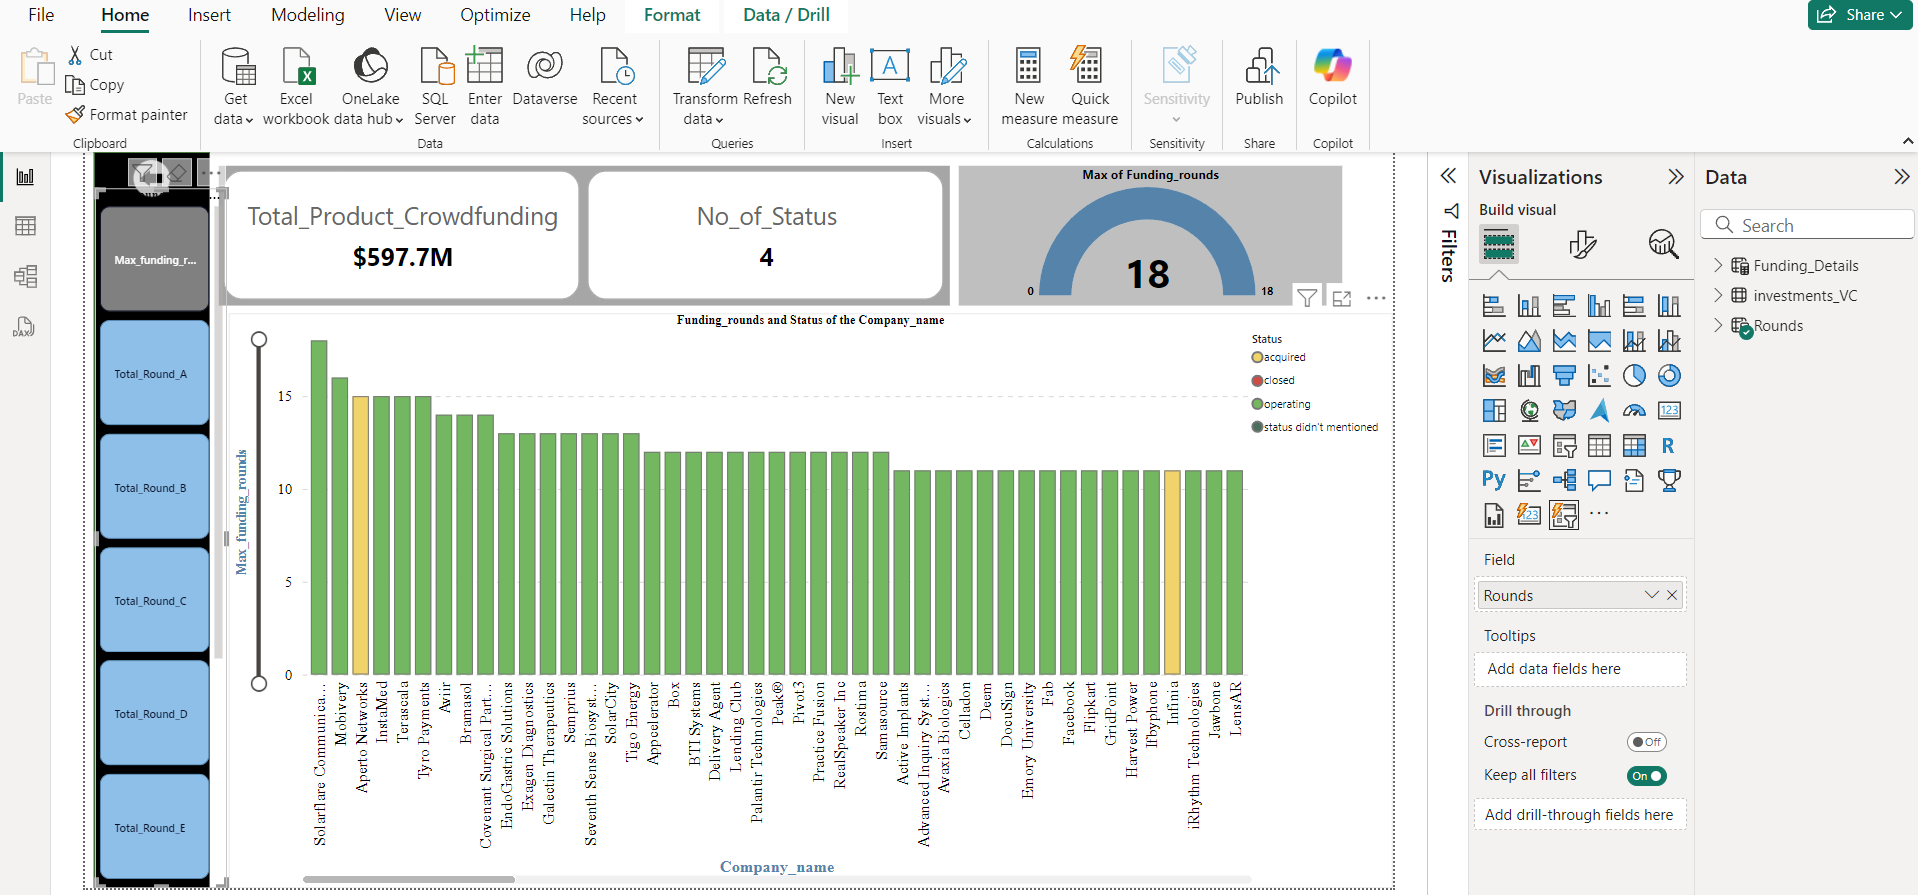

This screenshot's page, from the dashboard's own definition file:
{"tool":"powerbi","page":{"name":"Page 2","canvas":[1280,720],"ordinal":1},"visuals":[{"type":"shape","box":[9.2,0,113.7,1080.4],"z":0},{"type":"cardVisual","fields":{"Data":["investments_VC.Total_Product_Crowdfunding","investments_VC.Distinct"]},"box":[130.8,13.5,715.4,137],"z":1000},{"type":"kpi","box":[1287.6,34.9,533.8,394.4],"z":2000},{"type":"gauge","title":"Max of Funding_rounds","fields":{"Y":["Max(investments_VC.Funding_rounds)"],"MaxValue":["investments_VC.Max_funding_rounds"]},"box":[854.8,13.5,375.4,137],"z":3000},{"type":"lineStackedColumnComboChart","title":"Funding_rounds and Status of the Company_name","fields":{"Y":["investments_VC.Max_funding_rounds"],"Category":["investments_VC.Company_name"],"Series":["investments_VC.Status"]},"box":[140.8,157.1,1138.8,563.3],"z":4000},{"type":"advancedSlicerVisual","title":"Total Rounds with Companies","fields":{"Values":["Rounds.Rounds"]},"box":[10,35,130,685],"z":5000},{"type":"image","box":[41.6,0,47.7,51.4],"z":6000}]}

Visuals, with their boxes on the page's 1280x720 design canvas (x1, y1, x2, y2). These are canvas units, not pixel positions in the 1918x895 screenshot, which may show the page scaled, cropped or inside an application window:
shape: left=9, top=0, right=123, bottom=1080
cardVisual - investments_VC.Total_Product_Crowdfunding x investments_VC.Distinct: left=131, top=14, right=846, bottom=150
kpi: left=1288, top=35, right=1821, bottom=429
"Max of Funding_rounds" gauge: left=855, top=14, right=1230, bottom=150
"Funding_rounds and Status of the Company_name" lineStackedColumnComboChart: left=141, top=157, right=1280, bottom=720
"Total Rounds with Companies" advancedSlicerVisual: left=10, top=35, right=140, bottom=720
image: left=42, top=0, right=89, bottom=51
